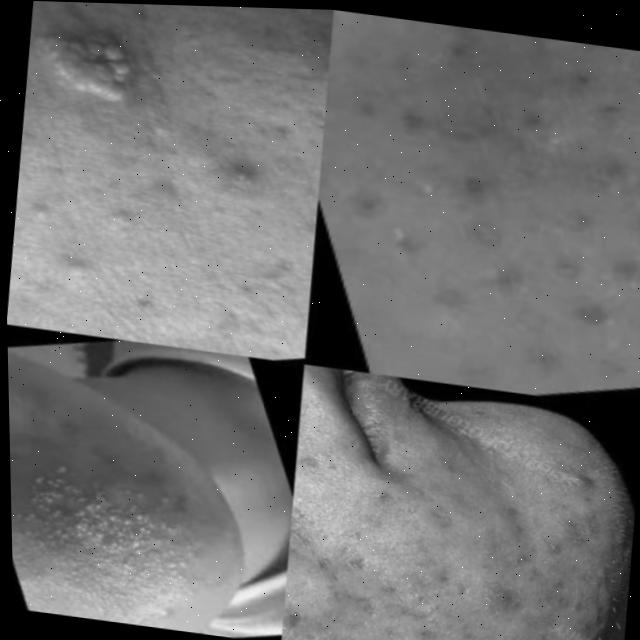Acne: (387, 21, 640, 411), (299, 430, 598, 640), (14, 23, 245, 207), (29, 449, 185, 629)
